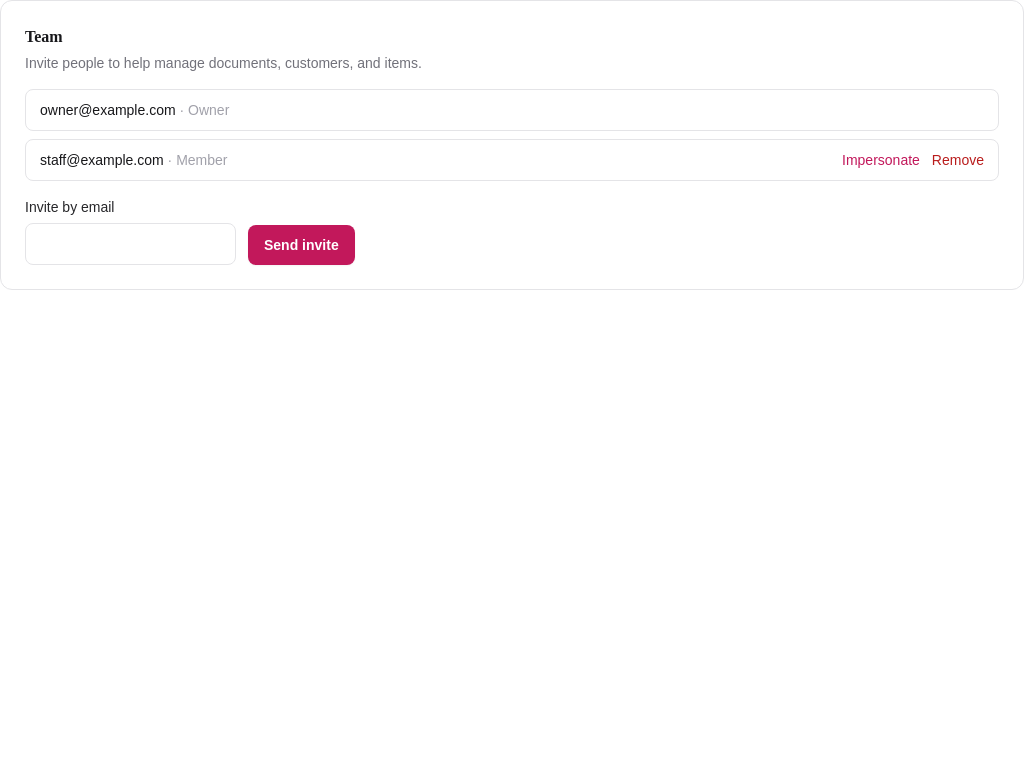
TeamSection › asks for confirmation before removing a team member
The width and height of the screenshot is (1024, 768).
What coordinates should you click on to do the following:
click the button "Remove"
I would click on:
 (958, 160)
Its box is [932,150,984,170].
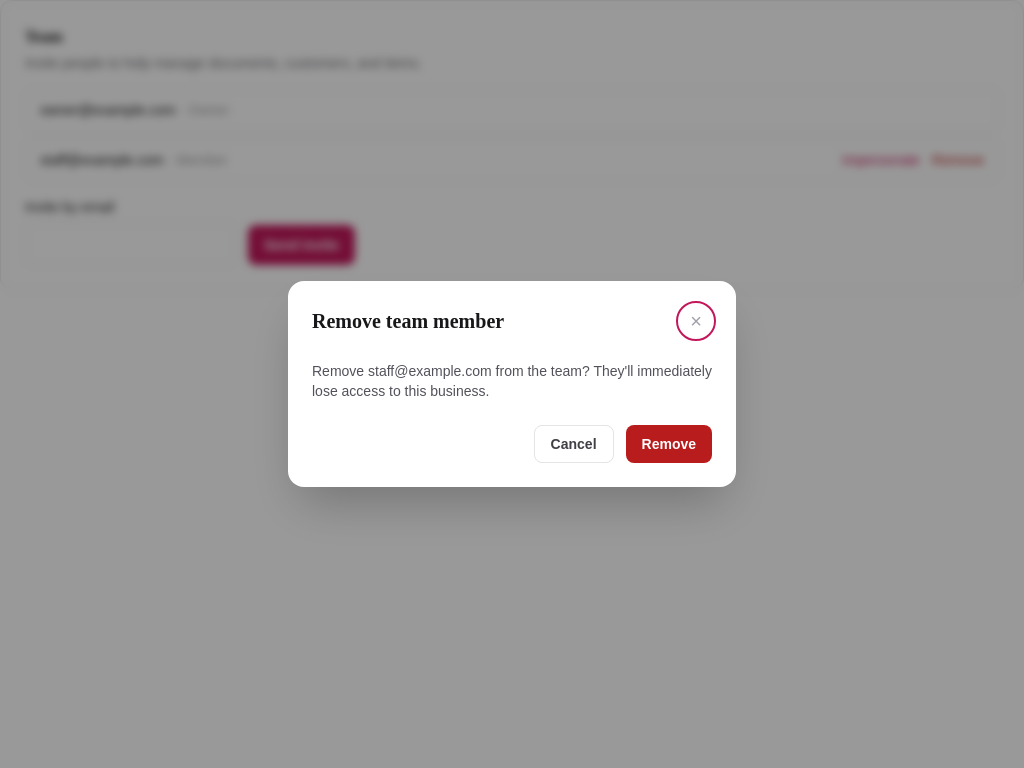
Expected: the text "staff@example.com" is shown, [368,363,492,379]
What coordinates should you click on to do the following:
click the button "Remove"
I would click on:
 (669, 444)
Its box is [626,425,712,463].
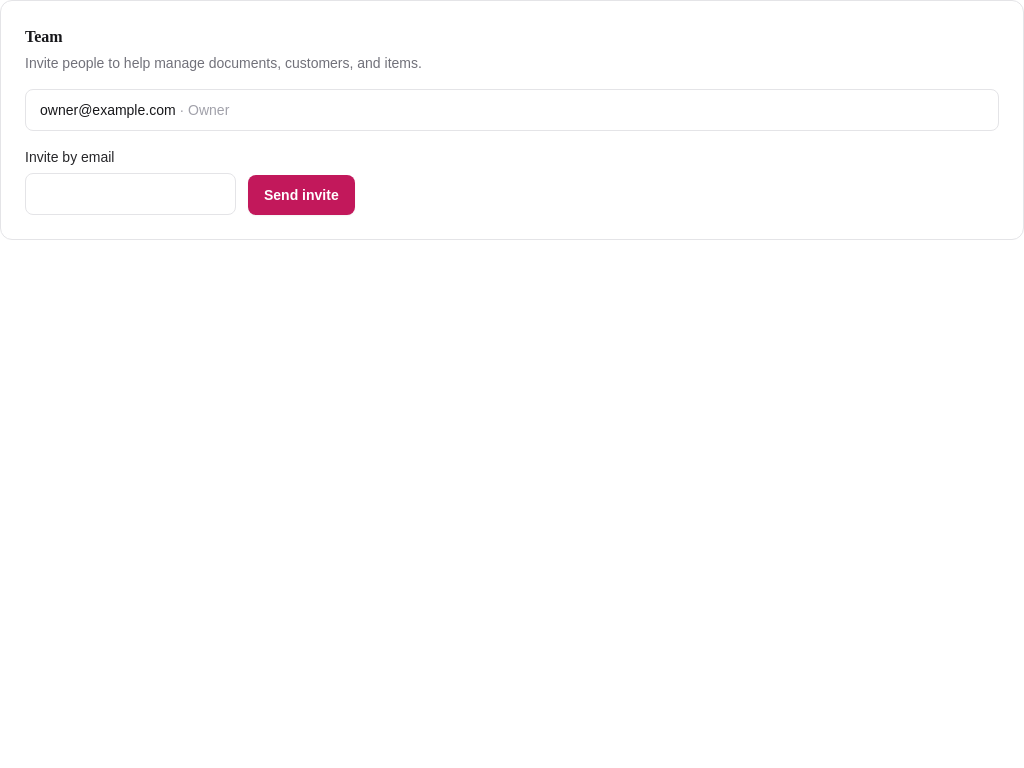
Expected: the text "staff@example.com" is gone
